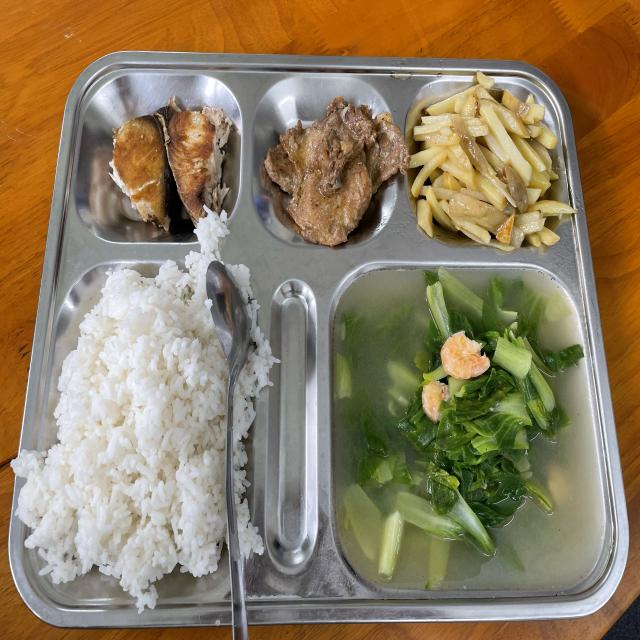canh_cai: (350, 281, 590, 565)
com_trang: (69, 280, 220, 576)
